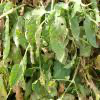Tomato Septoria leaf spot: (50, 15, 69, 64), (23, 4, 46, 34), (27, 23, 43, 58), (7, 62, 25, 91), (68, 14, 82, 43), (15, 29, 30, 54), (31, 71, 45, 96)
